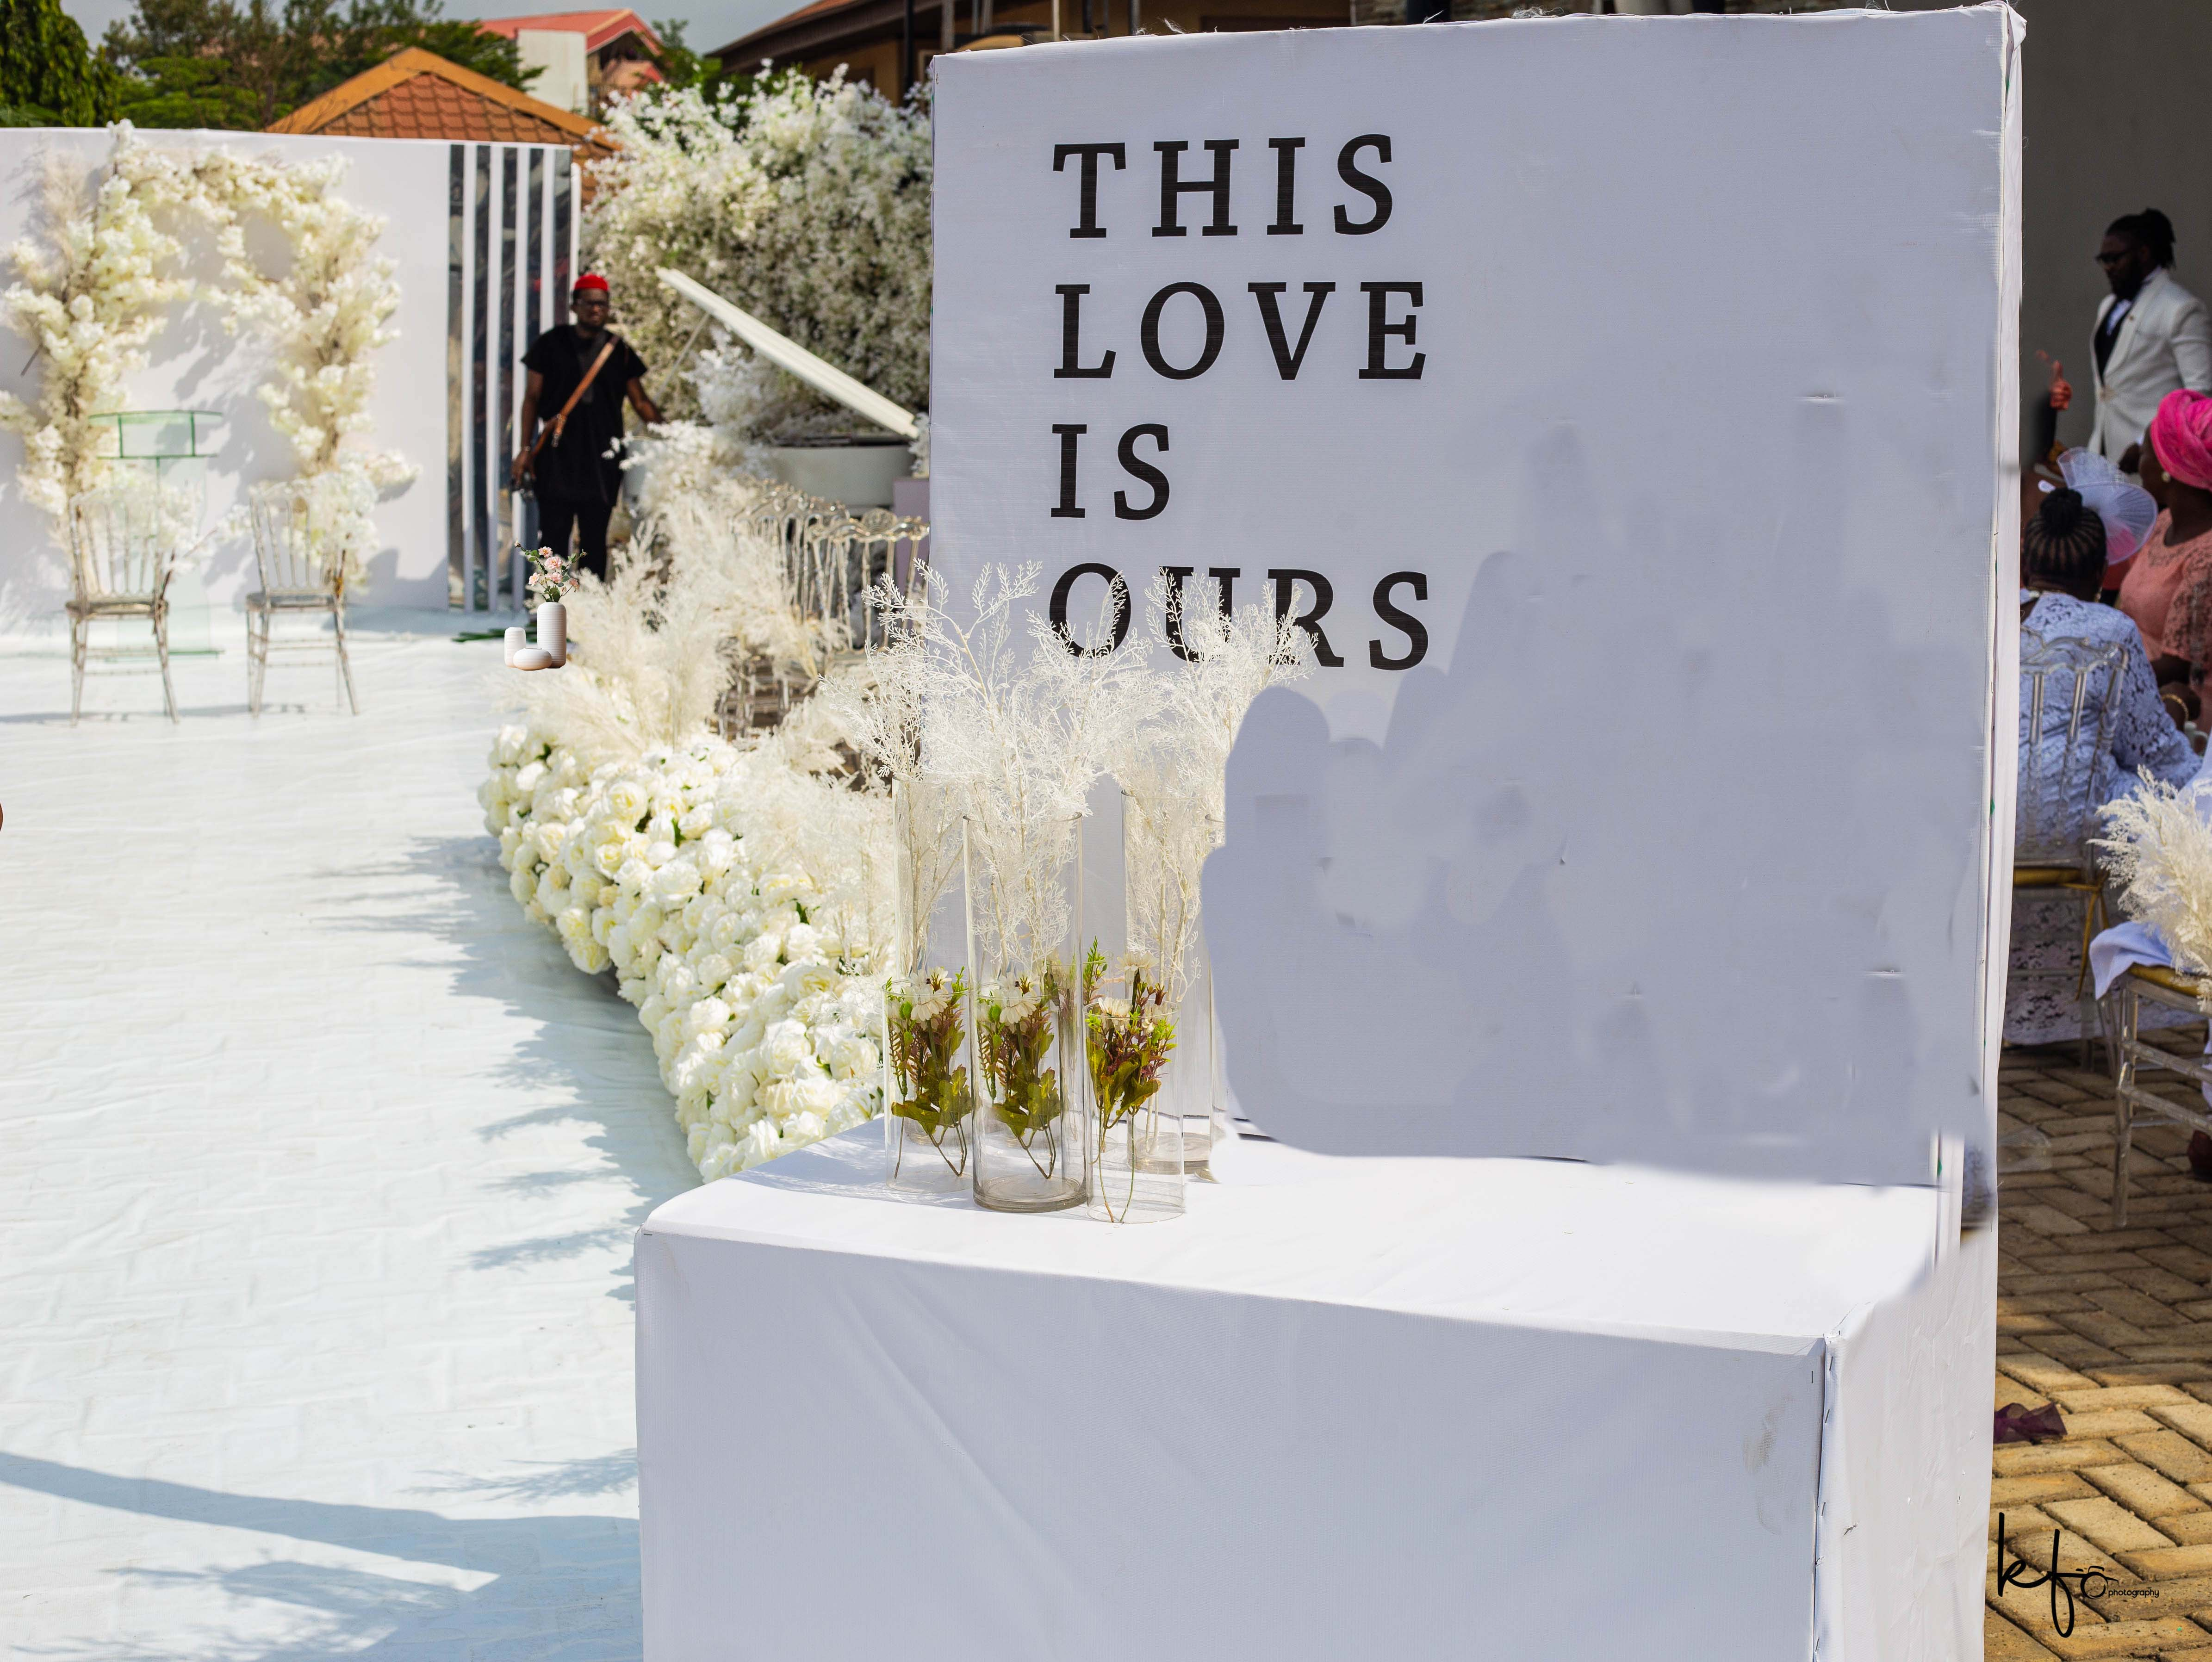copymove: (969, 726, 1110, 1213)
removal: (1418, 735, 1940, 951), (1206, 684, 1358, 1189)
spliced: (499, 548, 578, 676)
